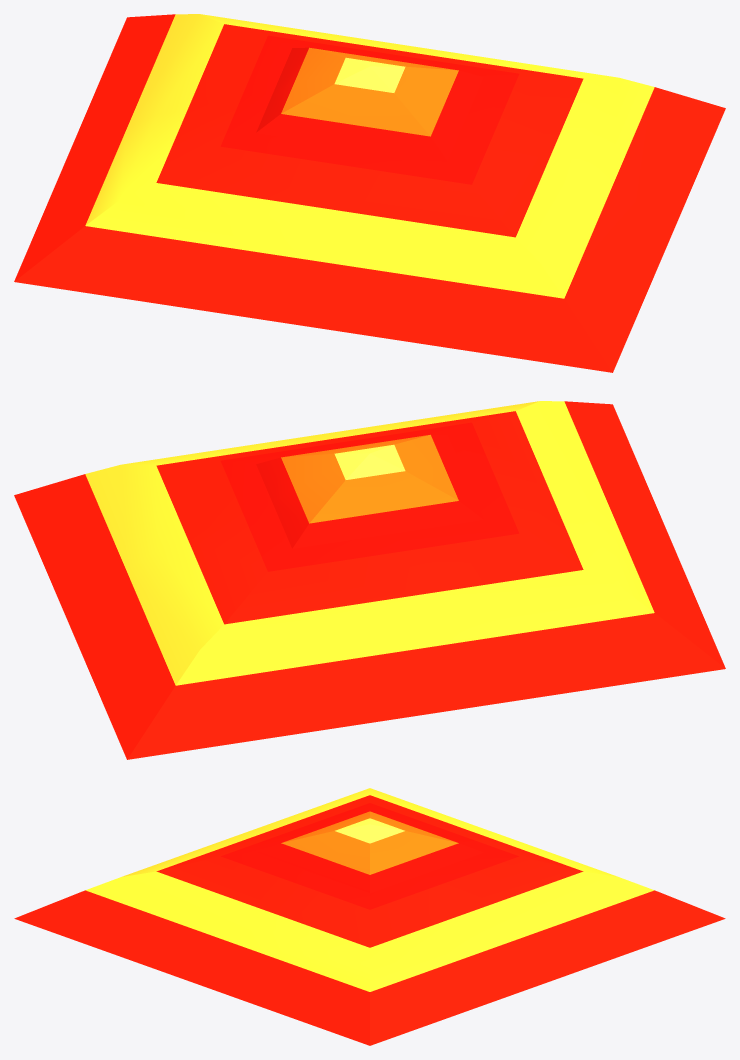
The model's file is shot_sidekick_warfly.glb.
3 views of the same model, one above another, from view 1: azimuth 30°, elevation 25°; view 2: azimuth 150°, elevation 25°; view 3: azimuth 270°, elevation 25° (orthographic). The views are drawn at different scales.
Parts seen in each view (by area): view 1: shot_sidekick_warfly; view 2: shot_sidekick_warfly; view 3: shot_sidekick_warfly.
Boxes of the visible parts, x1,y1,x2,y2 form: shot_sidekick_warfly: (14,14,725,372); shot_sidekick_warfly: (14,401,725,759); shot_sidekick_warfly: (14,788,725,1045).
Size of the model in its own units: 11 by 1.9 by 13.
